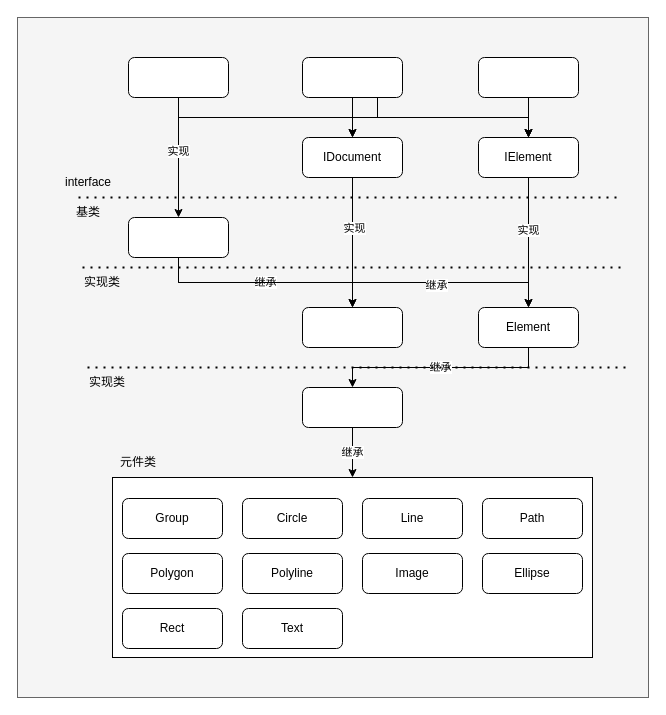
This 666x715 diagram has some shape labels left out. Here are the shapes that lost their labels. From the top down, the centre of each, then its label:
the point at 178,77: INode
the point at 352,77: IParentNode
the point at 528,77: IChildNode
the point at 178,237: Node
the point at 352,327: Document
the point at 352,407: DisplayObject
